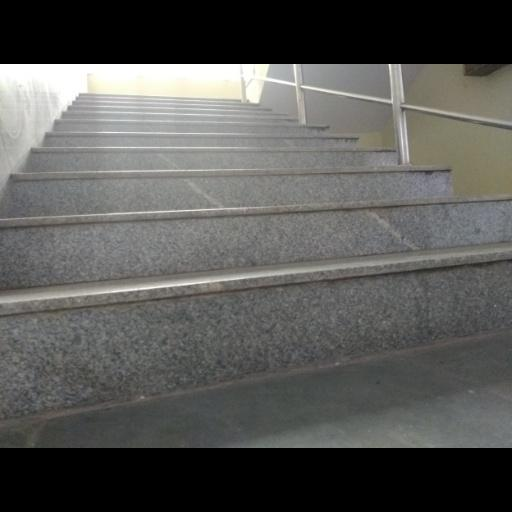stairs: (0, 95, 511, 417)
